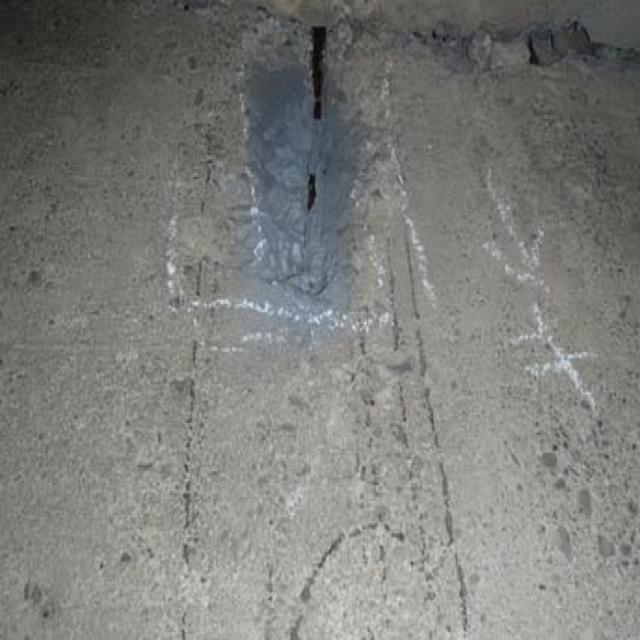spalling: (242, 35, 367, 352)
